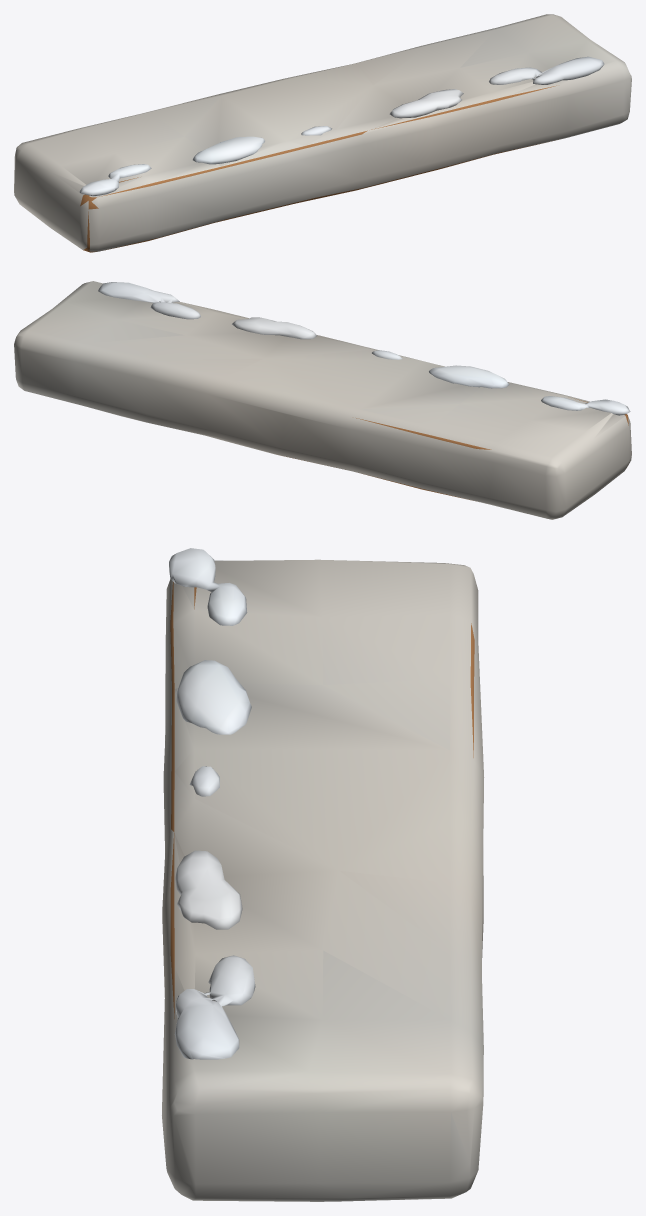
File: frost_frame_rail_lod1.glb
3 views of the same model, one above another, from view 1: azimuth 30°, elevation 25°; view 2: azimuth 150°, elevation 25°; view 3: azimuth 270°, elevation 25° (orthographic). The views are drawn at different scales.
Visible parts, largest first — view 1: frost_frame_rail.001; view 2: frost_frame_rail.001; view 3: frost_frame_rail.001.
Part boxes in pixels (box(x1,y1,x2,y2)): frost_frame_rail.001: box(14, 14, 631, 252); frost_frame_rail.001: box(14, 281, 631, 519); frost_frame_rail.001: box(162, 548, 484, 1201).
Size of the model in its own units: 20.03 by 2.53 by 5.08.
